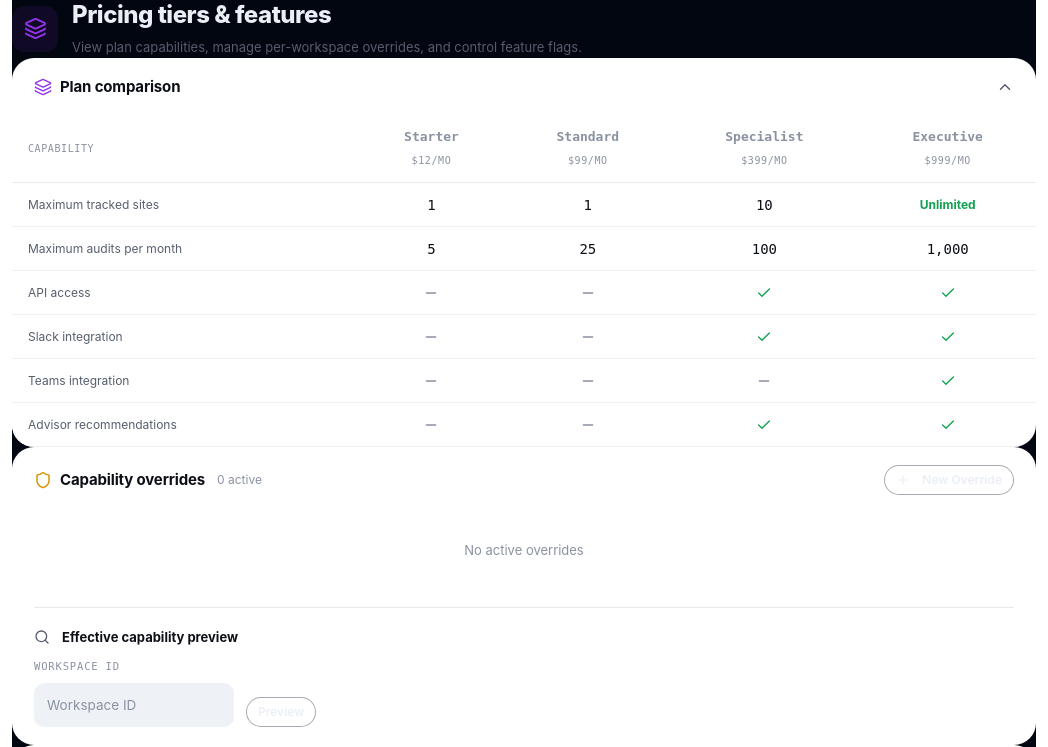
Scenario: AdminPlansPage › offers only the overridable capability keys, not the whole matrix
This screenshot has width=1048, height=747.
Click the button "New Override" at (949, 480), box 884,465 -> 1014,495
(page scrolled)
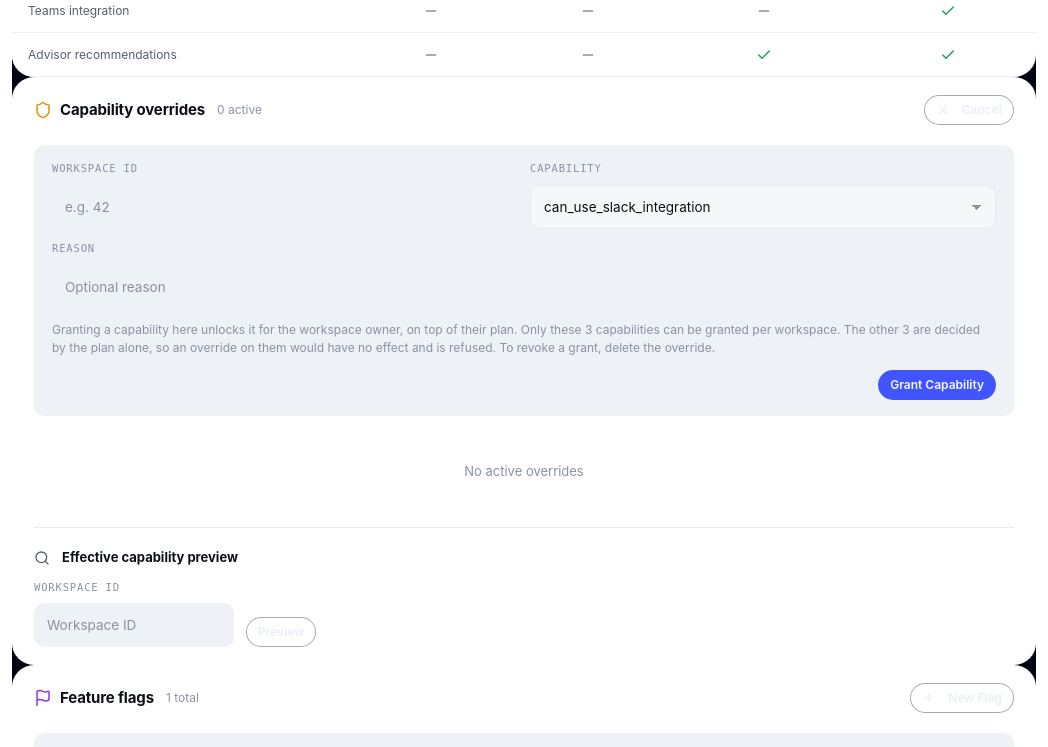
Expected: the dropdown shows "can_use_slack_integration", 530,185 -> 996,229
Expected: the dropdown is enabled, 530,185 -> 996,229
Expected: the button "Grant Capability" is enabled, 878,370 -> 996,400
